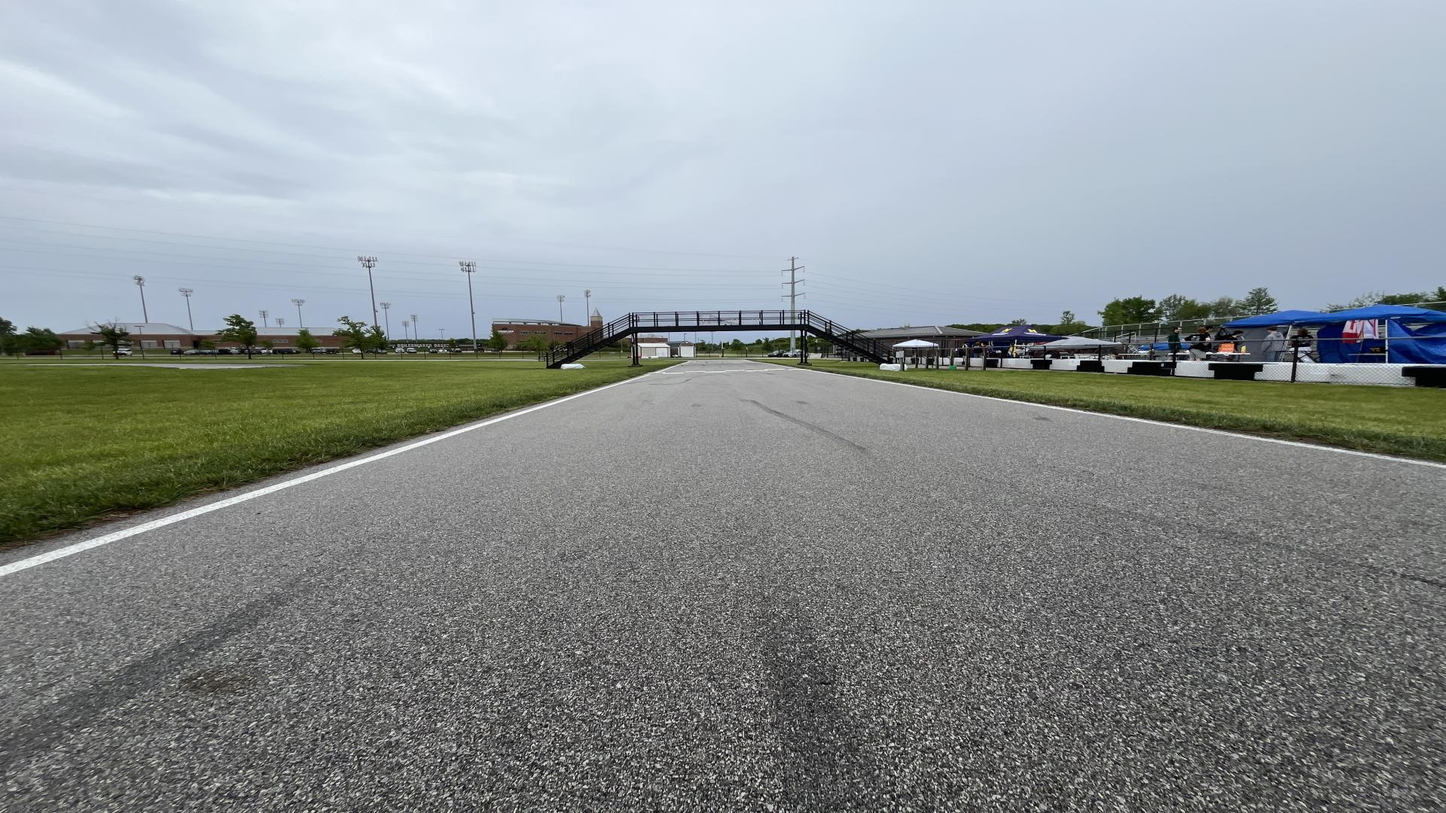white-line: (0, 375, 649, 575), (807, 370, 1445, 469), (743, 360, 798, 369), (660, 361, 690, 372)
